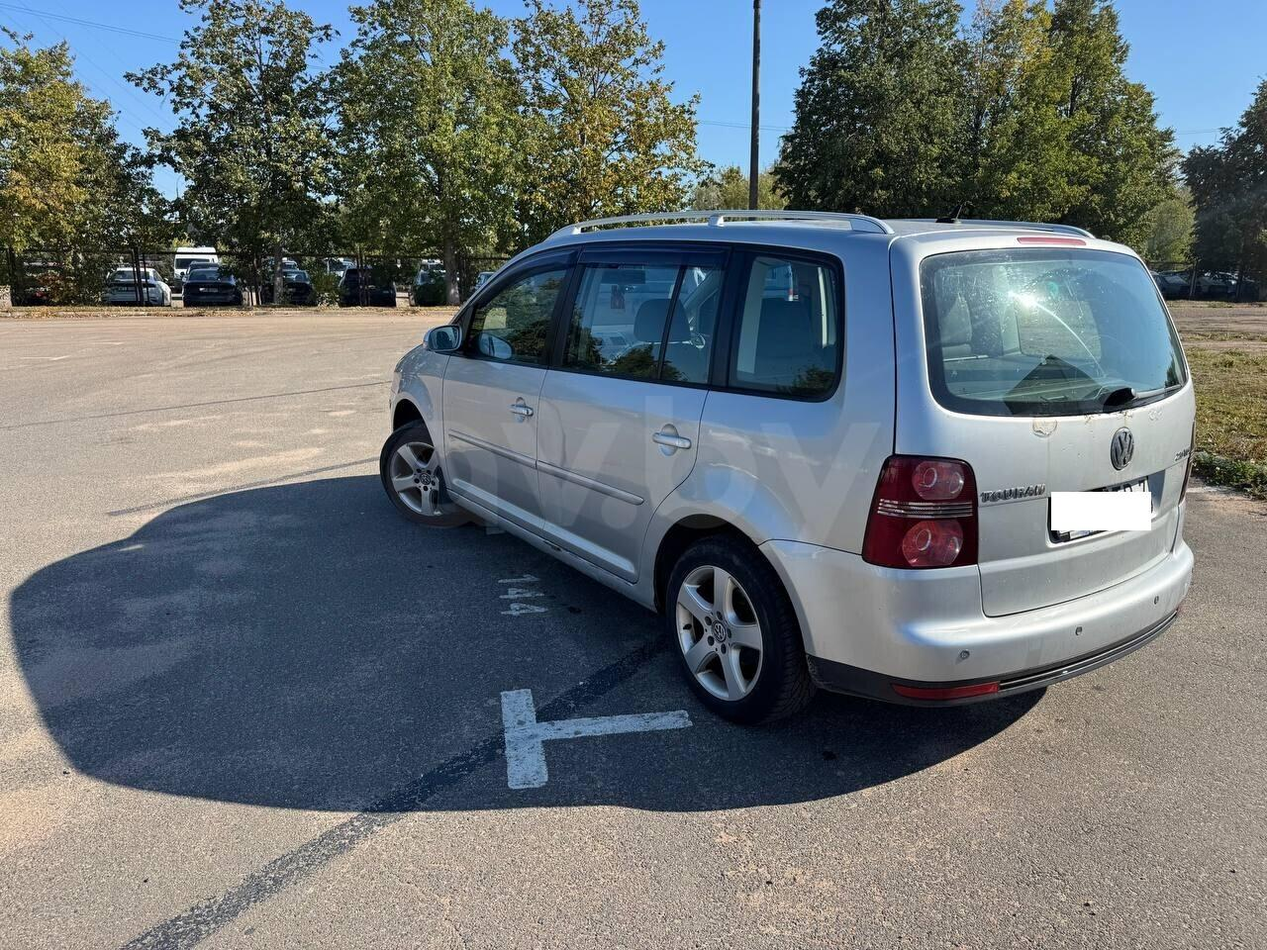Touran_2006-2010: (381, 214, 1204, 725)
